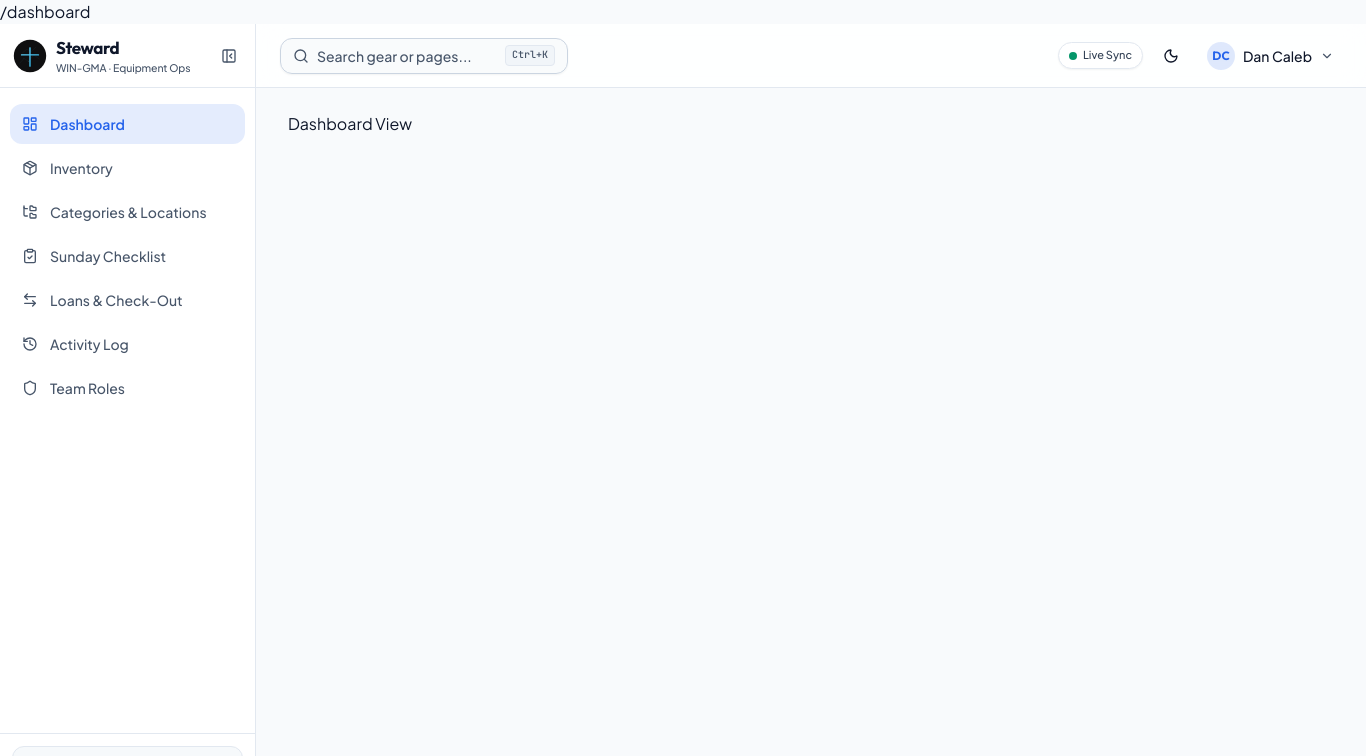
Test: AppShell › opens AccountSettingsDialog and invokes signOut from the authenticated user menu
Later steps or results of the test are not shown.
expect the message named "Realtime sync: Live Sync" is shown: met, box [1058, 42, 1143, 69]
expect the text "DC" is shown: met, box [1207, 42, 1235, 70]
Click the button with aria-label "Account menu" at [1270, 56], box [1199, 38, 1342, 74]
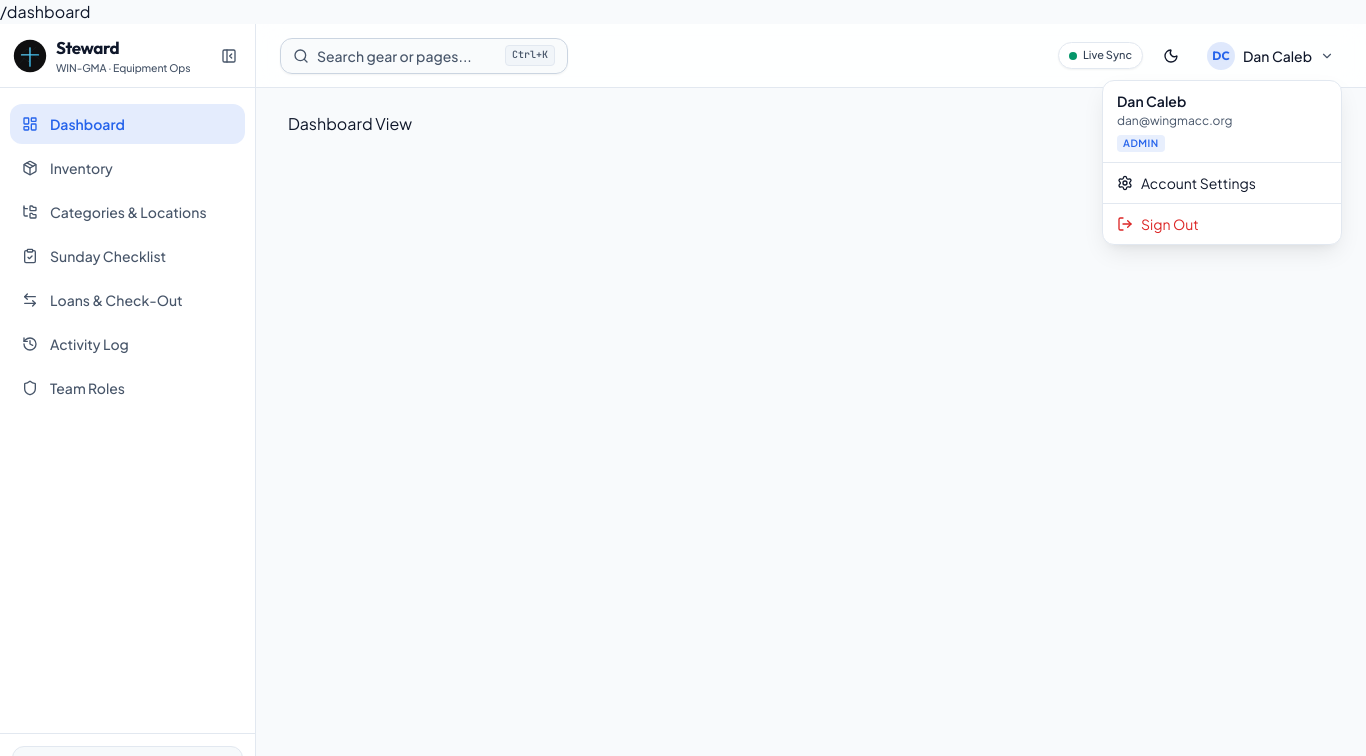
Click the menu item "Account Settings" at [1186, 183], box [1117, 174, 1256, 192]
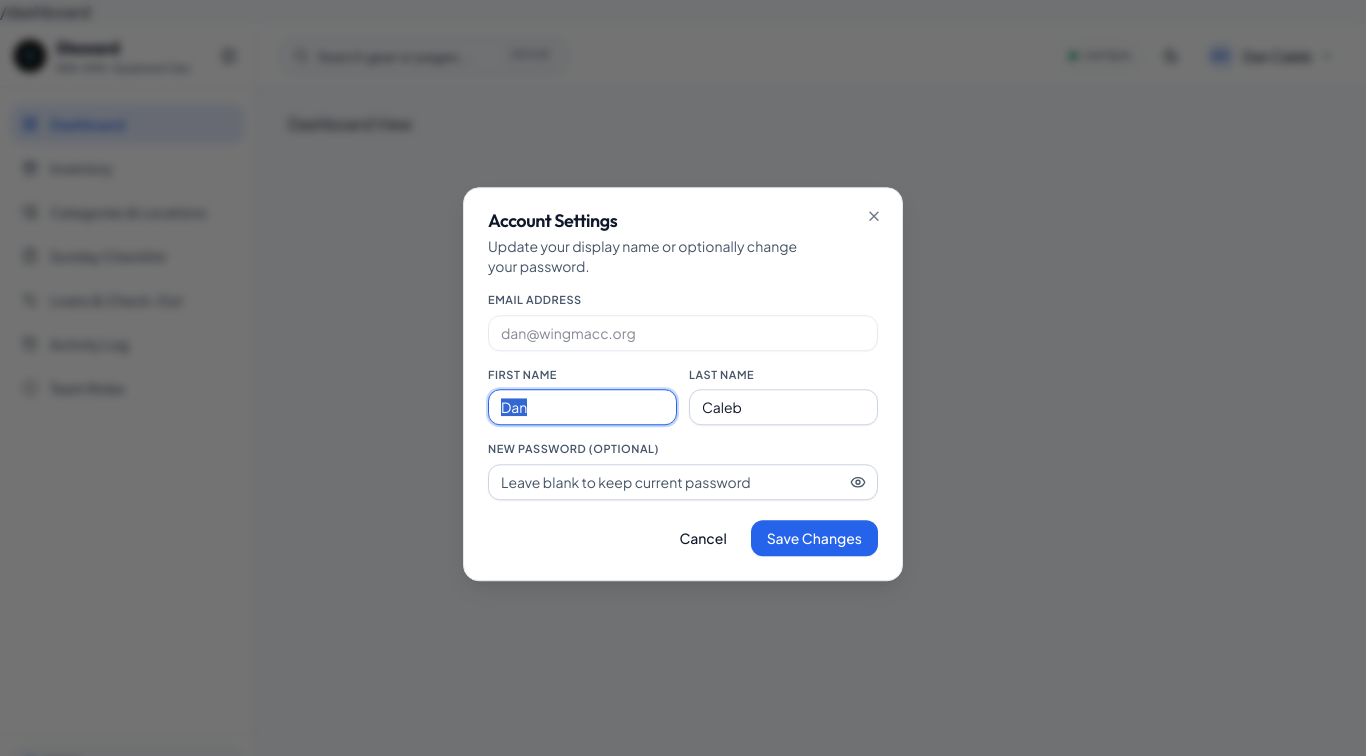
expect the heading "Account Settings" is shown: met, box [488, 209, 617, 232]
